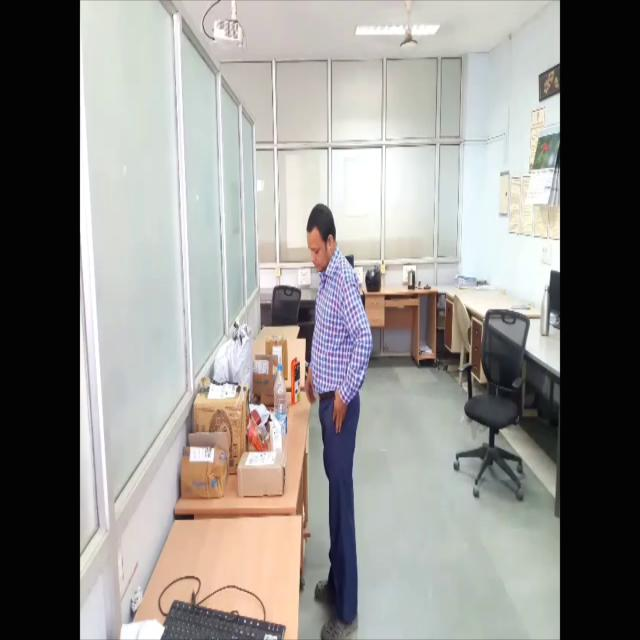shoplifting: (298, 193, 385, 640)
